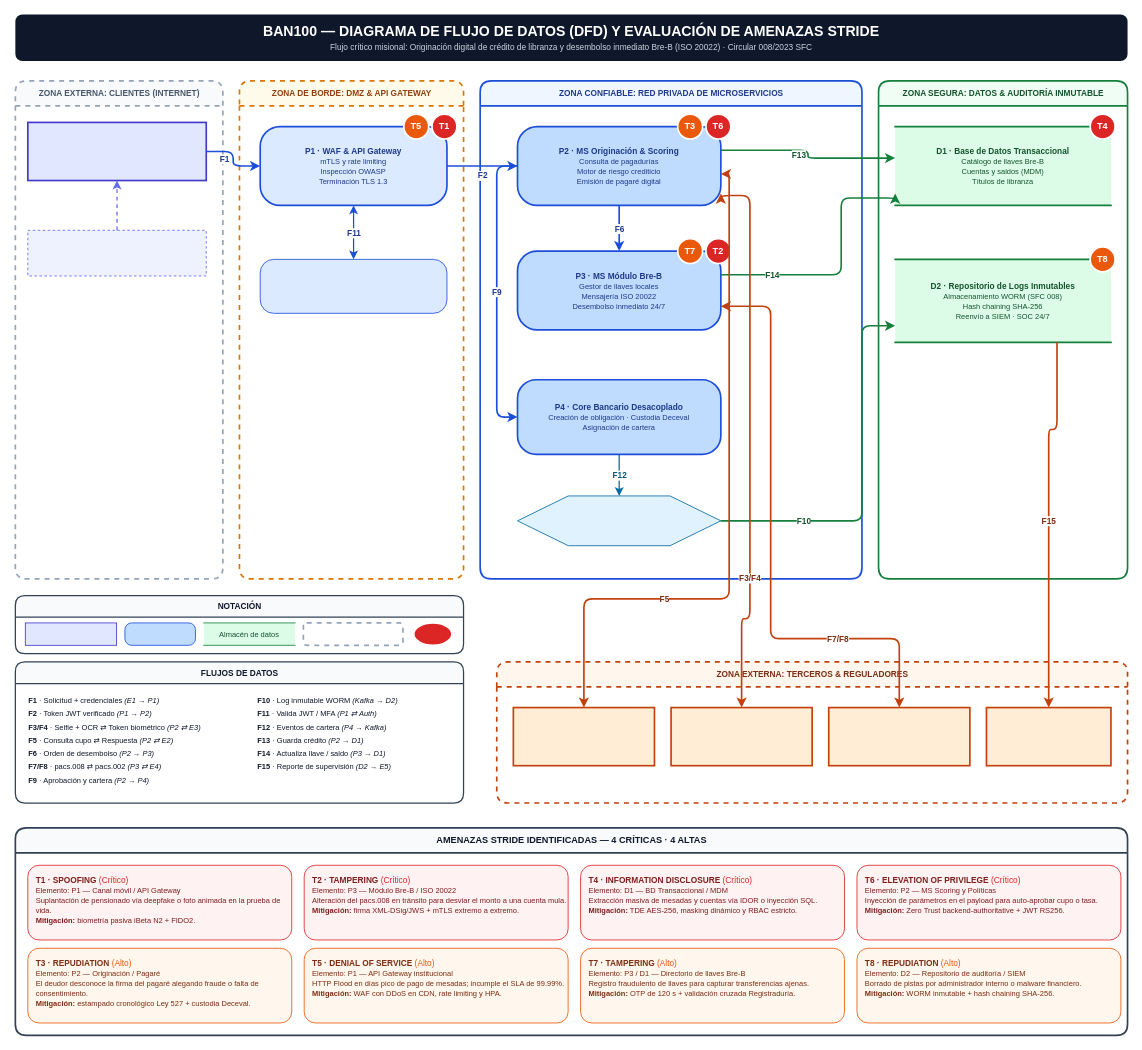
This 1142x1050 diagram has some shape labels left out. Each missing label, with the centre of its shape:
"Amenaza" belongs at pixel 432 634.
"Dispositivo móvil Cámara · Navegador · GPS" belongs at pixel 116 252.
"E1 · Pensionado / Solicitante Canal Web · App · WhatsApp" belongs at pixel 117 151.
"E2 · Pagaduría Institucional Entidad pública / fondo pensional" belongs at pixel 583 736.
"E3 · Truora S.A.S. Biometría facial iBeta N2 Firma electrónica Ley 527" belongs at pixel 741 736.
"E4 · Banco de la República Cámara central Bre-B 24/7 pacs.008 / pacs.002" belongs at pixel 899 736.
"E5 · SuperFinanciera (SFC) Supervisión Circular 008/2023" belongs at pixel 1048 736.
"Entidad externa" belongs at pixel 70 633.
"Kafka Event Broker Bus de eventos asíncrono" belongs at pixel 619 520.
"Límite de confianza" belongs at pixel 352 634.
"Proceso" belongs at pixel 159 633.
"Servicio Auth / IAM Validación token JWT · MFA contextual" belongs at pixel 353 286.
